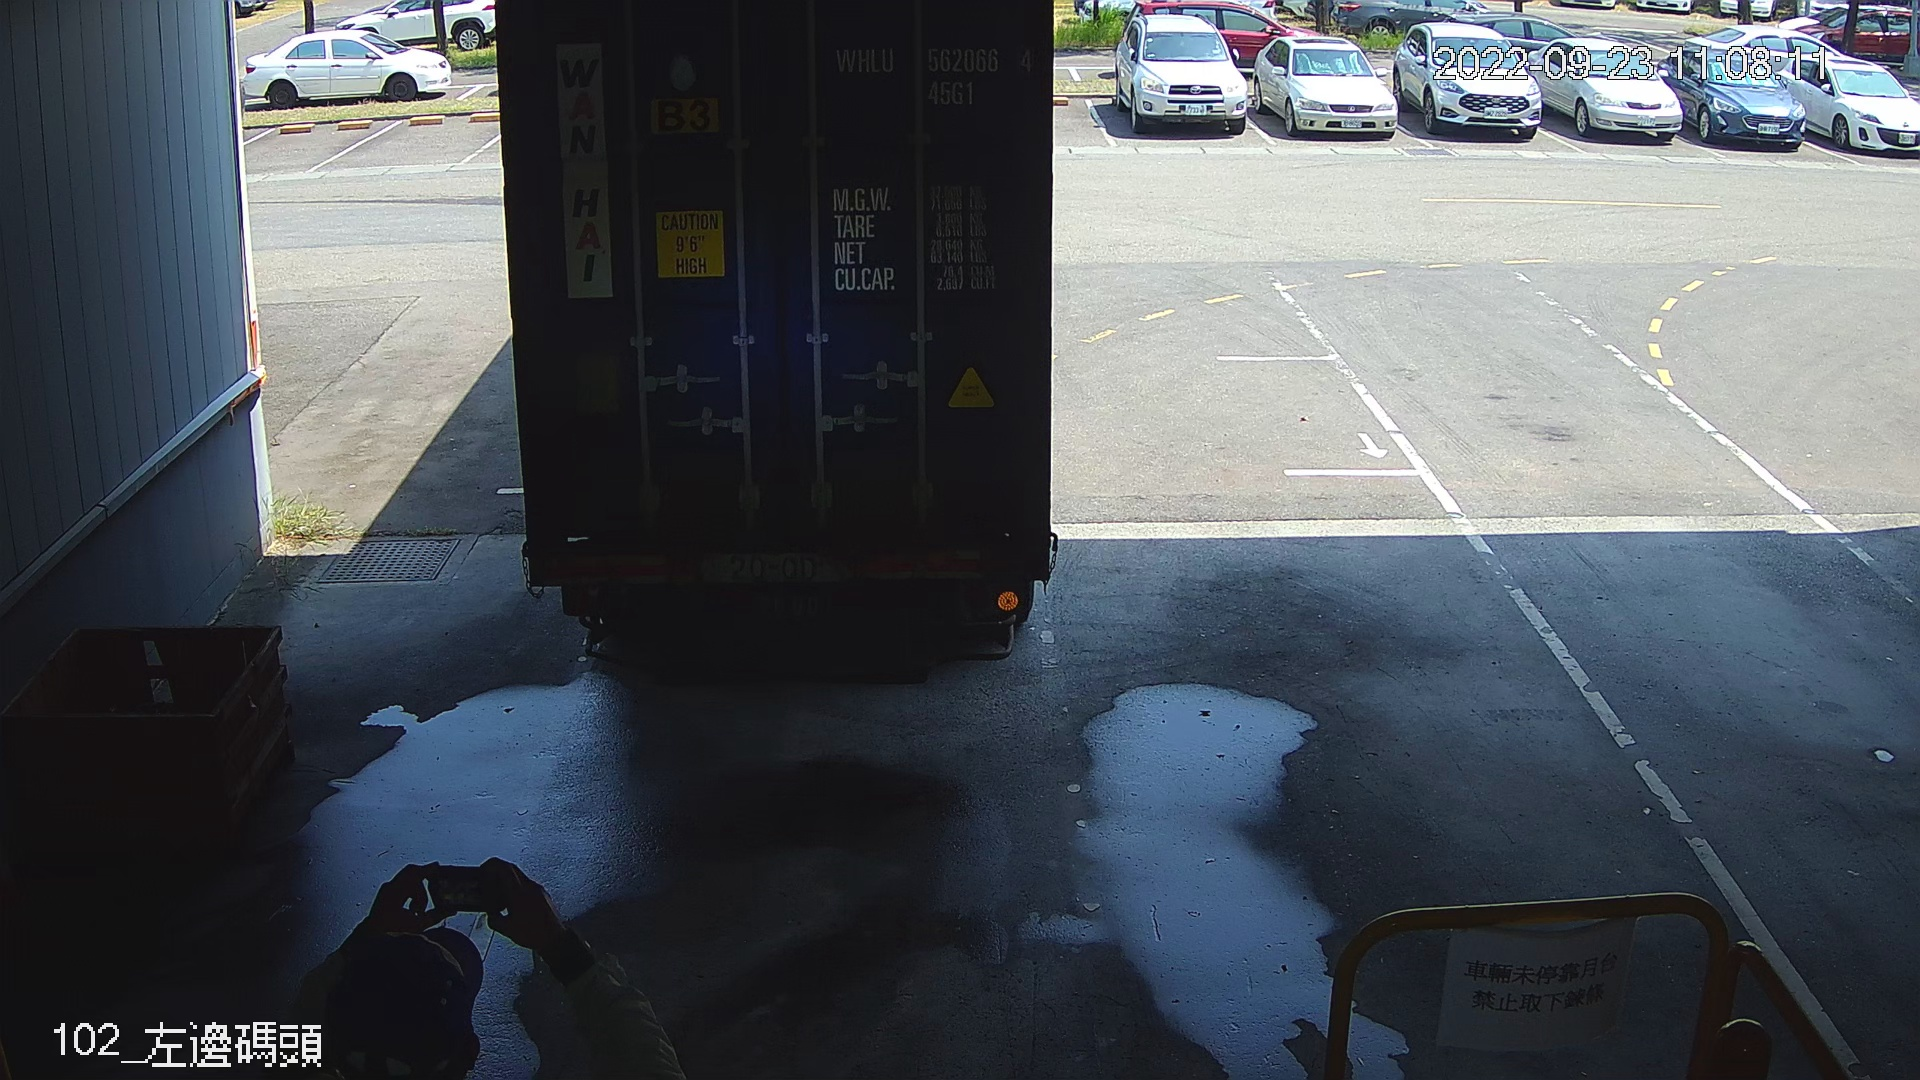container: (975, 131, 1084, 179)
